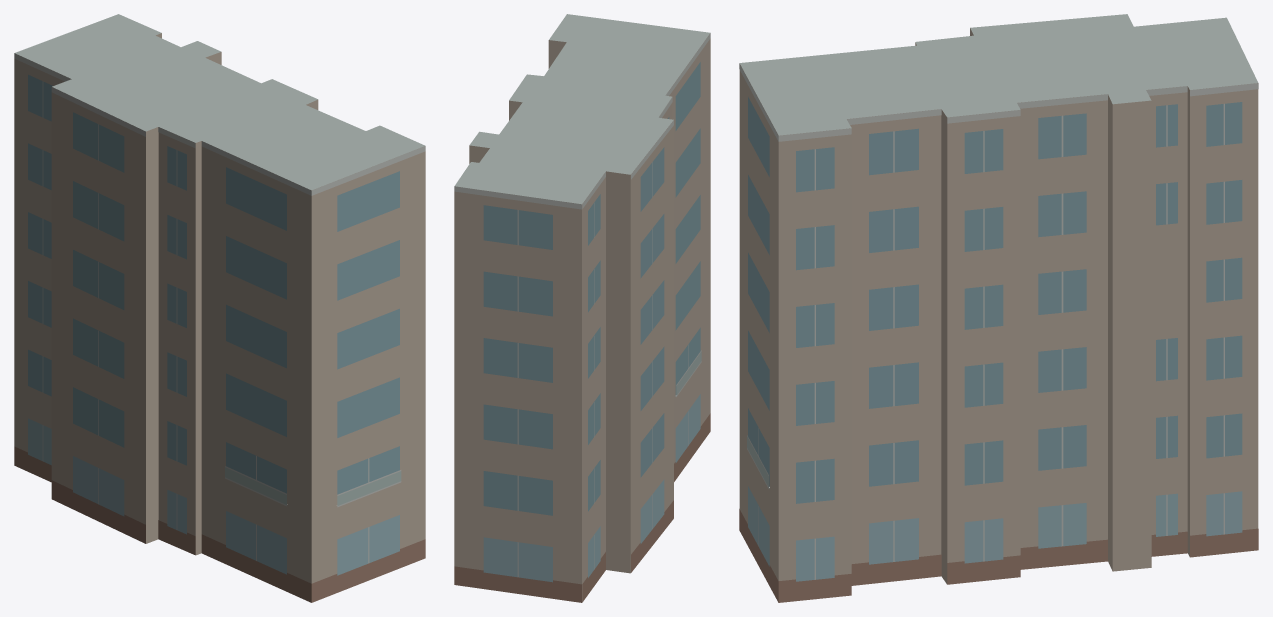
The model's file is survey-upis-32941189.glb.
3 views of the same model, side by side, from view 1: azimuth 30°, elevation 25°; view 2: azimuth 150°, elevation 25°; view 3: azimuth 270°, elevation 25° (orthographic). The views are drawn at different scales.
Visible parts, largest first — view 1: survey-upis-32941189.tmp; view 2: survey-upis-32941189.tmp; view 3: survey-upis-32941189.tmp.
Part boxes in pixels (x1=…): survey-upis-32941189.tmp: x1=14, y1=14, x2=425, y2=602; survey-upis-32941189.tmp: x1=454, y1=14, x2=710, y2=602; survey-upis-32941189.tmp: x1=739, y1=14, x2=1258, y2=602.
Bounding box in the file's own units: 10.22 × 18.3 × 18.43.
